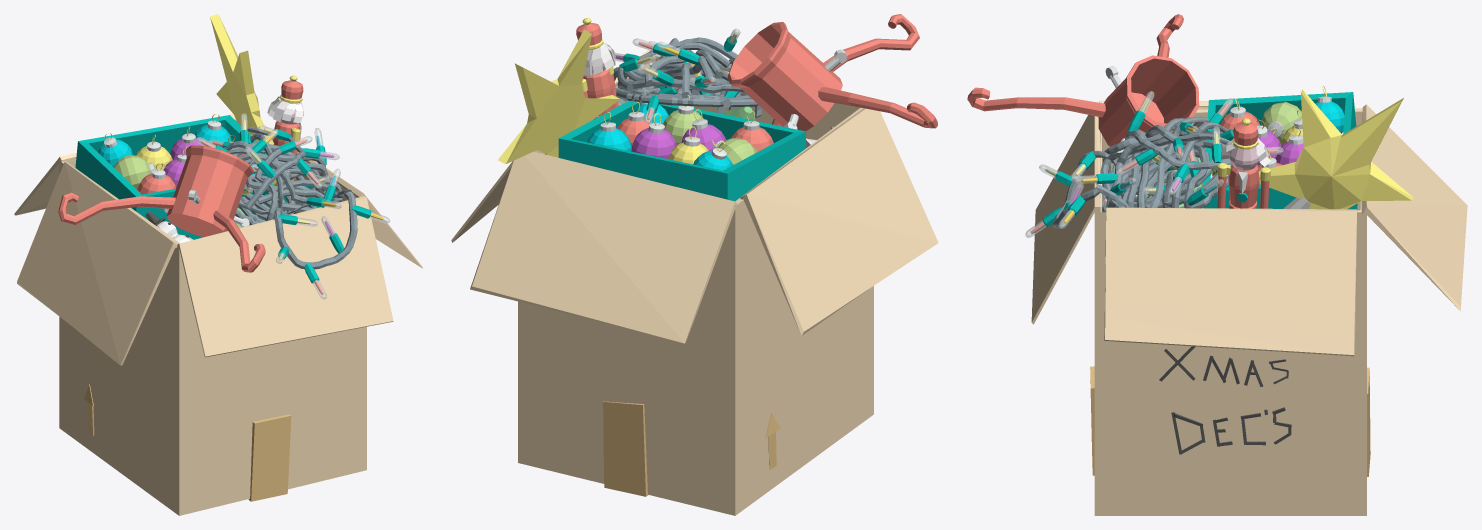
The model's file is DecorazioniNatalizie.fbx.
3 renders of one model, left to right at view 1: azimuth 30°, elevation 25°; view 2: azimuth 150°, elevation 25°; view 3: azimuth 270°, elevation 25°, orthographic. The views are drawn at different scales.
Visible parts, largest first — view 1: mesh1740953758, mesh1592993486, mesh181670252, mesh1471033406, mesh1166730895, mesh830120448, mesh2000381243, mesh1953694528, mesh602426045, mesh1529484225, mesh1526678614, mesh369189182 (+1 smaller); view 2: mesh1740953758, mesh1526678614, mesh181670252, mesh1471033406, mesh1166730895, mesh2000381243, mesh1342194963, mesh1953694528, mesh1529484225; view 3: mesh1740953758, mesh1529484225, mesh1526678614, mesh2000381243, mesh1166730895, mesh1471033406, mesh1592993486, mesh1953694528, mesh602426045.
Part boxes in pixels (x1=…): mesh1740953758: x1=59, y1=119, x2=366, y2=515; mesh1592993486: x1=177, y1=196, x2=393, y2=357; mesh181670252: x1=17, y1=162, x2=177, y2=365; mesh1471033406: x1=75, y1=114, x2=287, y2=239; mesh1166730895: x1=58, y1=145, x2=265, y2=272; mesh830120448: x1=248, y1=414, x2=291, y2=501; mesh2000381243: x1=210, y1=14, x2=273, y2=144; mesh1953694528: x1=267, y1=75, x2=303, y2=203; mesh602426045: x1=273, y1=190, x2=357, y2=269; mesh1529484225: x1=265, y1=126, x2=422, y2=268; mesh1526678614: x1=14, y1=113, x2=235, y2=215; mesh369189182: x1=246, y1=154, x2=301, y2=209; mesh1740953758: x1=518, y1=54, x2=873, y2=515; mesh1526678614: x1=470, y1=151, x2=736, y2=343; mesh181670252: x1=740, y1=108, x2=938, y2=335; mesh1471033406: x1=558, y1=89, x2=805, y2=201; mesh1166730895: x1=727, y1=14, x2=937, y2=131; mesh2000381243: x1=498, y1=29, x2=620, y2=164; mesh1342194963: x1=603, y1=401, x2=648, y2=496; mesh1953694528: x1=576, y1=18, x2=618, y2=119; mesh1529484225: x1=451, y1=50, x2=652, y2=242; mesh1740953758: x1=1094, y1=108, x2=1366, y2=515; mesh1529484225: x1=1104, y1=207, x2=1356, y2=356; mesh1526678614: x1=1361, y1=104, x2=1467, y2=311; mesh2000381243: x1=1258, y1=89, x2=1413, y2=209; mesh1166730895: x1=967, y1=14, x2=1199, y2=153; mesh1471033406: x1=1202, y1=86, x2=1357, y2=209; mesh1592993486: x1=1031, y1=115, x2=1100, y2=324; mesh1953694528: x1=1217, y1=118, x2=1270, y2=208; mesh602426045: x1=1053, y1=150, x2=1123, y2=228.
Size of the model in its own units: 302 by 311 by 342.
